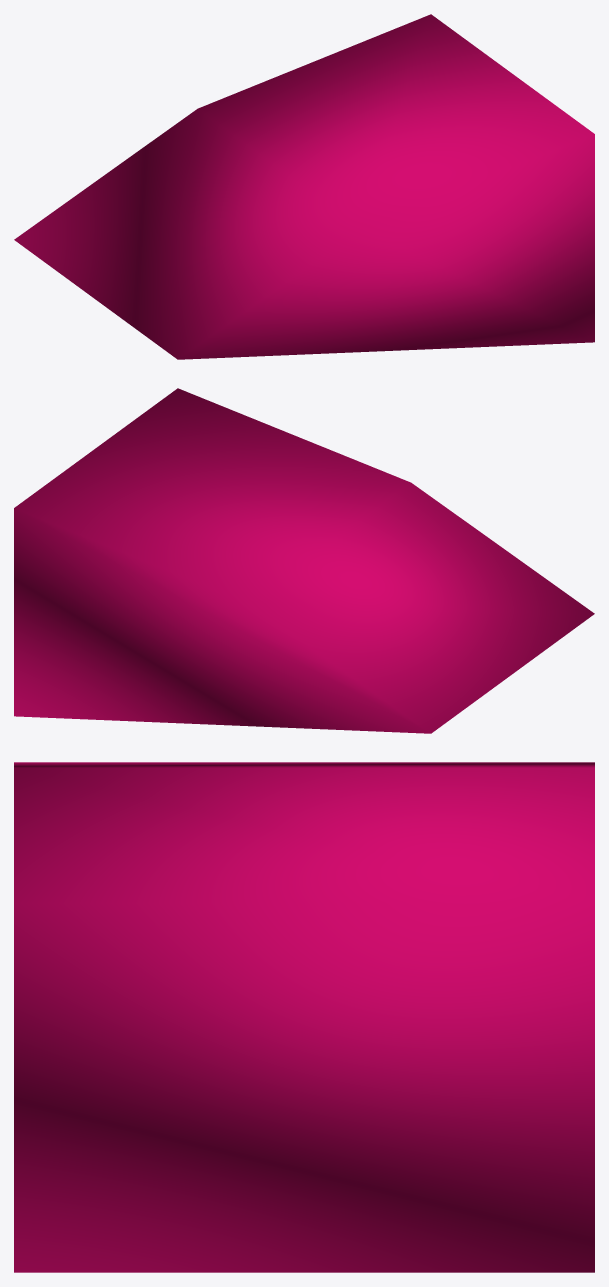
File: conebox.fbx
The picture shows the model from 3 angles, top to bottom: view 1: azimuth 30°, elevation 25°; view 2: azimuth 150°, elevation 25°; view 3: azimuth 270°, elevation 25°; orthographic projection. The views are drawn at different scales.
Visible parts, largest first — view 1: Cube; view 2: Cube; view 3: Cube.
Part boxes in pixels (x1,y1,x2,y2): Cube: (14, 14, 594, 359); Cube: (14, 388, 594, 733); Cube: (14, 762, 594, 1272).
Bounding box in the file's own units: 2.94 × 1.4 × 2.
